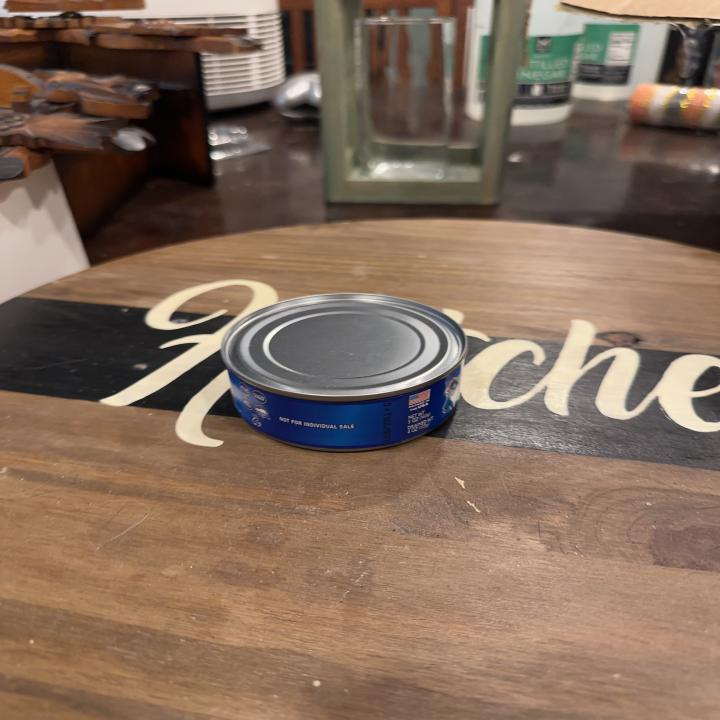Canned-Tuna: (218, 292, 470, 456)
